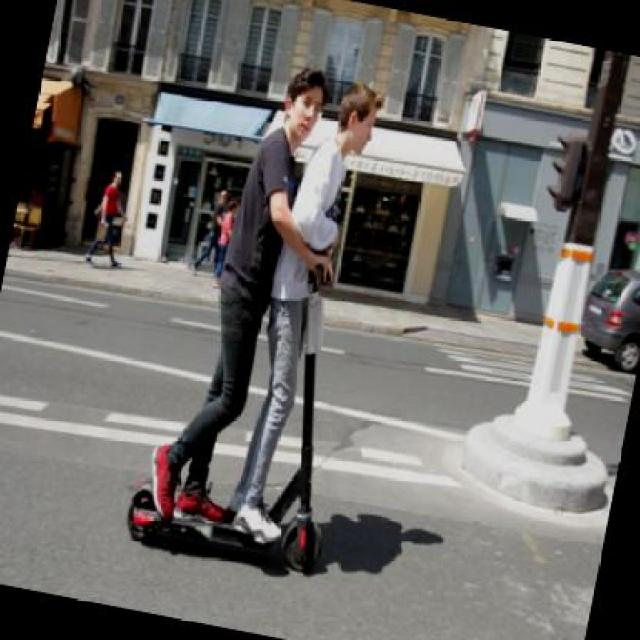bare_head: (267, 58, 329, 143), (327, 71, 384, 158)
human: (146, 55, 324, 526), (217, 73, 386, 537)
kickboard: (121, 475, 348, 579)
